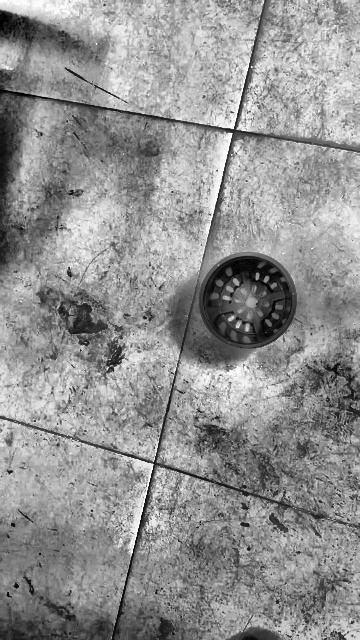pot: (198, 252, 297, 348)
